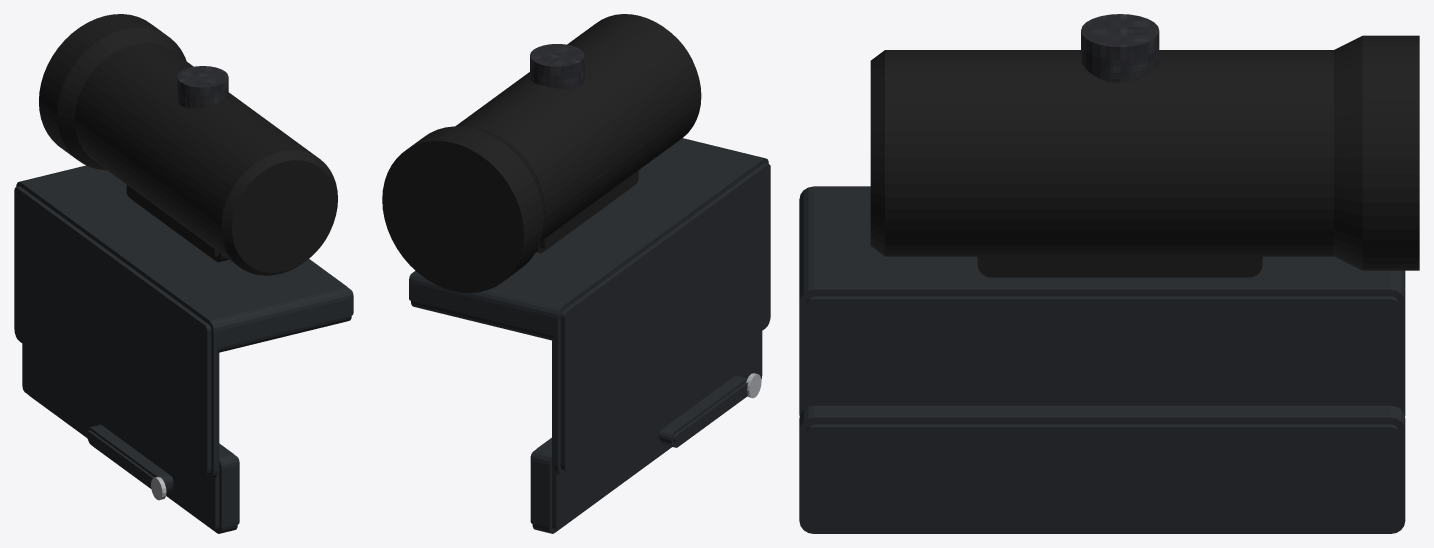
The model's file is mira_lateral_ak.glb.
3 renders of one model, left to right at view 1: azimuth 30°, elevation 25°; view 2: azimuth 150°, elevation 25°; view 3: azimuth 270°, elevation 25°, orthographic. The views are drawn at different scales.
Visible parts, largest first — view 1: mira_lateral_ak_aco_oxidado, mira_lateral_ak_aluminio_preto, mira_lateral_ak_recartilhado; view 2: mira_lateral_ak_aco_oxidado, mira_lateral_ak_aluminio_preto, mira_lateral_ak_recartilhado; view 3: mira_lateral_ak_aco_oxidado, mira_lateral_ak_aluminio_preto, mira_lateral_ak_recartilhado.
Part boxes in pixels (bbox=[...]): mira_lateral_ak_aco_oxidado: bbox=[14, 165, 353, 533]; mira_lateral_ak_aluminio_preto: bbox=[39, 14, 337, 275]; mira_lateral_ak_recartilhado: bbox=[177, 66, 228, 108]; mira_lateral_ak_aco_oxidado: bbox=[409, 138, 770, 533]; mira_lateral_ak_aluminio_preto: bbox=[382, 14, 701, 292]; mira_lateral_ak_recartilhado: bbox=[530, 44, 584, 89]; mira_lateral_ak_aco_oxidado: bbox=[799, 186, 1405, 533]; mira_lateral_ak_aluminio_preto: bbox=[870, 35, 1419, 277]; mira_lateral_ak_recartilhado: bbox=[1081, 14, 1159, 82].
Bounding box in the file's own units: 0.0453 × 0.086 × 0.087.
Materials: 6 (1 with a texture image).
